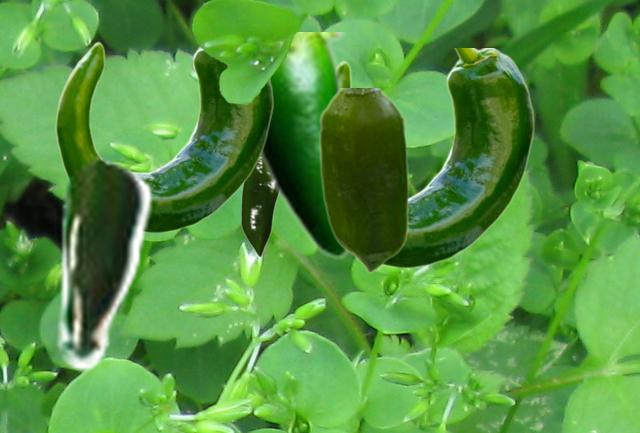green_chili: (339, 48, 534, 266), (55, 39, 273, 231), (51, 157, 153, 371), (258, 32, 351, 259), (318, 88, 408, 272), (240, 161, 277, 256)
